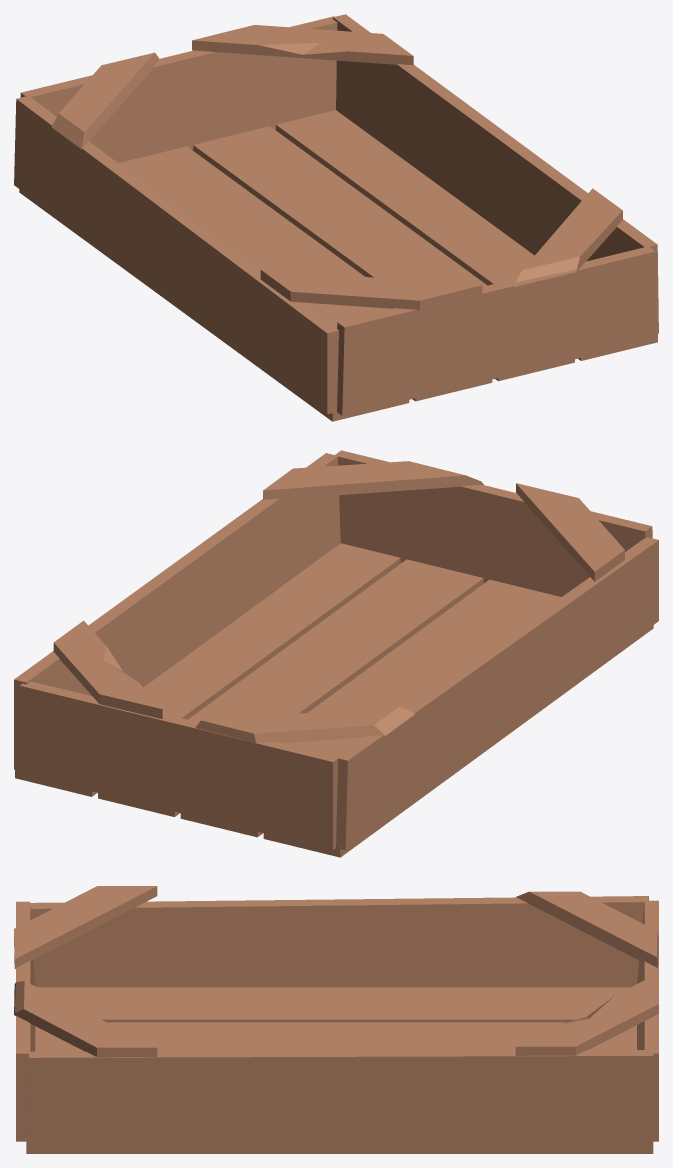
File: prop_15.FBX
3 views of the same model, one above another, from view 1: azimuth 30°, elevation 25°; view 2: azimuth 150°, elevation 25°; view 3: azimuth 270°, elevation 25° (orthographic).
Parts seen in each view (by area): view 1: prop_15; view 2: prop_15; view 3: prop_15.
Boxes of the visible parts, x1,y1,x2,y2 form: prop_15: [14, 14, 658, 421]; prop_15: [14, 450, 658, 857]; prop_15: [14, 886, 658, 1153].
Size of the model in its own units: 28.11 by 8.66 by 47.16.
